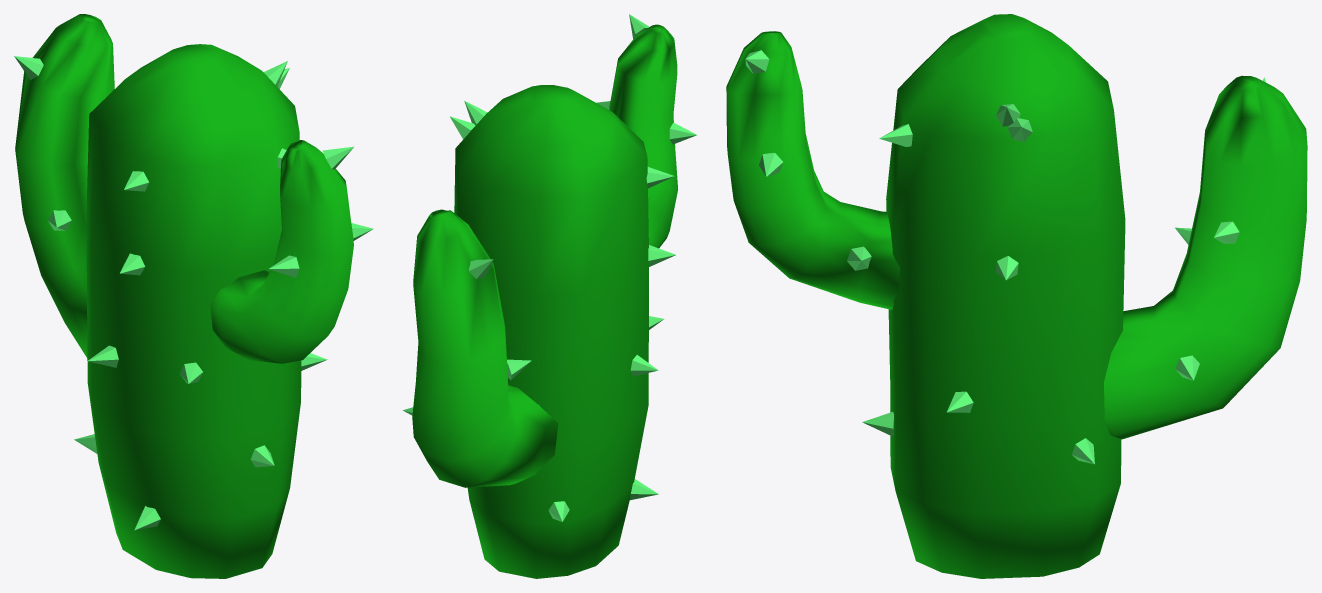
File: Cactus2.fbx
3 views of the same model, side by side, from view 1: azimuth 30°, elevation 25°; view 2: azimuth 150°, elevation 25°; view 3: azimuth 270°, elevation 25° (orthographic). The views are drawn at different scales.
Visible parts, largest first — view 1: Cactus2; view 2: Cactus2; view 3: Cactus2.
Boxes of the visible parts, x1=… form: Cactus2: x1=14, y1=14, x2=373, y2=578; Cactus2: x1=403, y1=14, x2=696, y2=578; Cactus2: x1=726, y1=14, x2=1307, y2=578.
Size of the model in its own units: 1.56 by 3.28 by 3.24.
